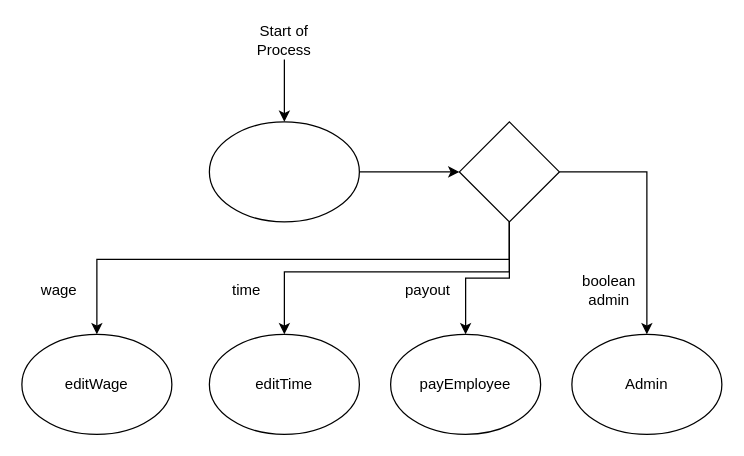
The diagram is 744 pixels wide and 456 high, and some of its shapes have lost their labels. The shapes that lost their labels are listed below. From the top down, each one's box as (x1, y1, x2, y2) in pixels, then its label:
(208, 121, 359, 222): Manager options
(458, 121, 559, 222): option
